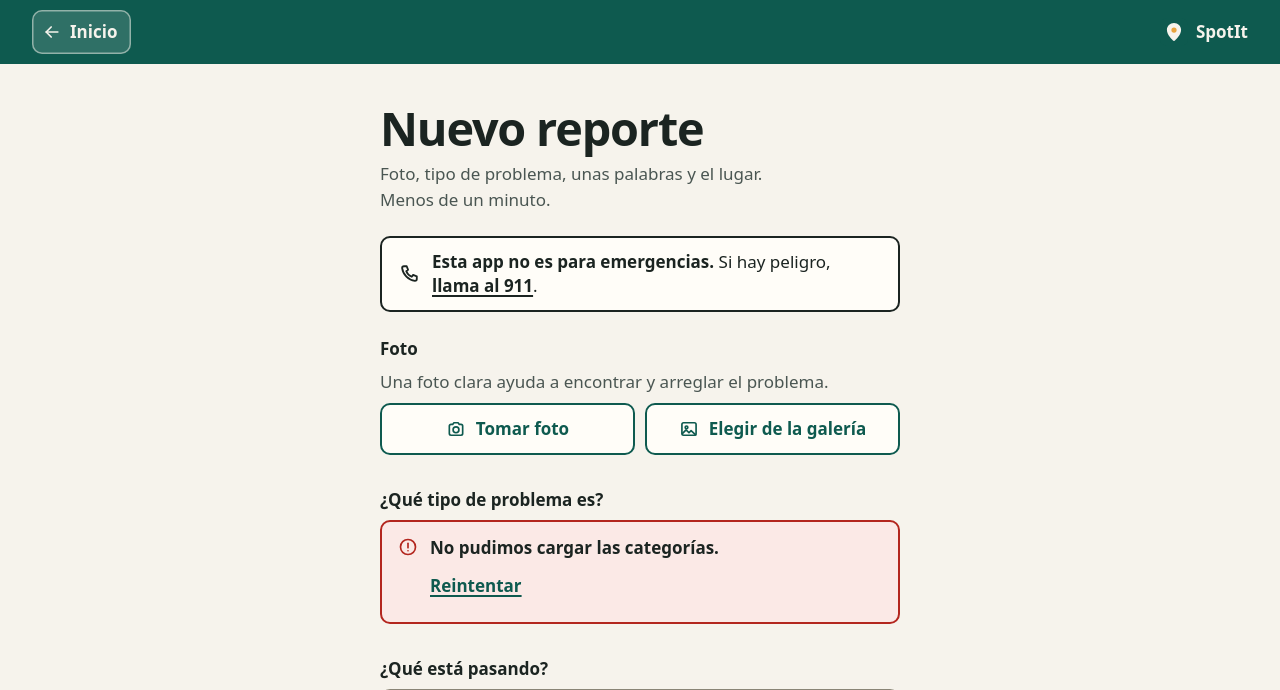
Scenario: Nuevo reporte › si fallan las categorías, permite reintentar
The width and height of the screenshot is (1280, 690).
Expected: the text "No pudimos cargar las categorías." is shown, left=430, top=536, right=719, bottom=560
What coordinates should you click on to do the following:
click the button "Reintentar"
I would click on:
 (476, 586)
Its box is left=430, top=564, right=522, bottom=608.
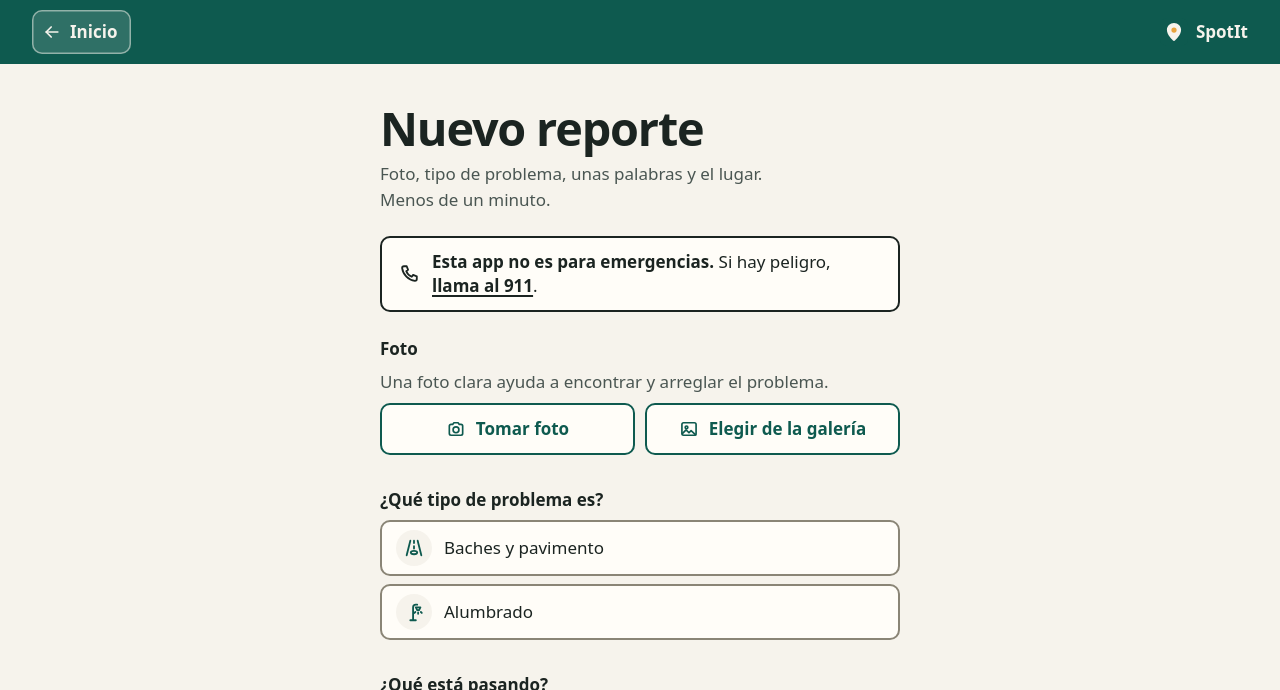
Result: the text "Alumbrado" is shown at left=444, top=600, right=533, bottom=623
